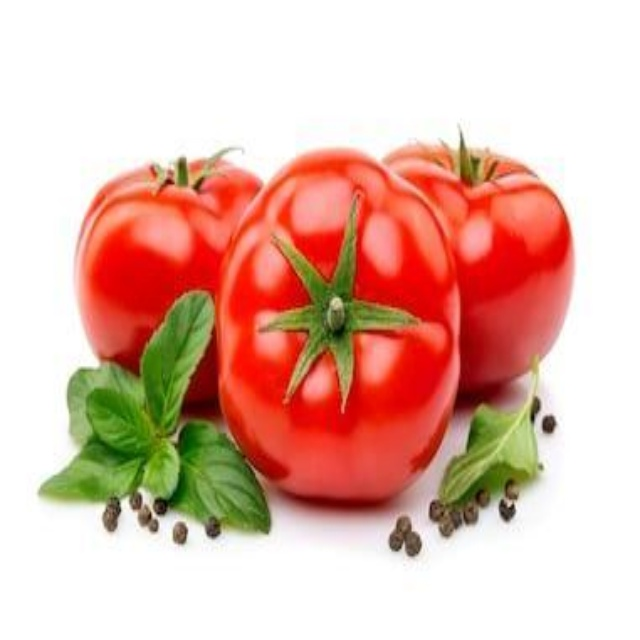tomato: (210, 146, 447, 508), (370, 126, 601, 396), (75, 156, 264, 402)
